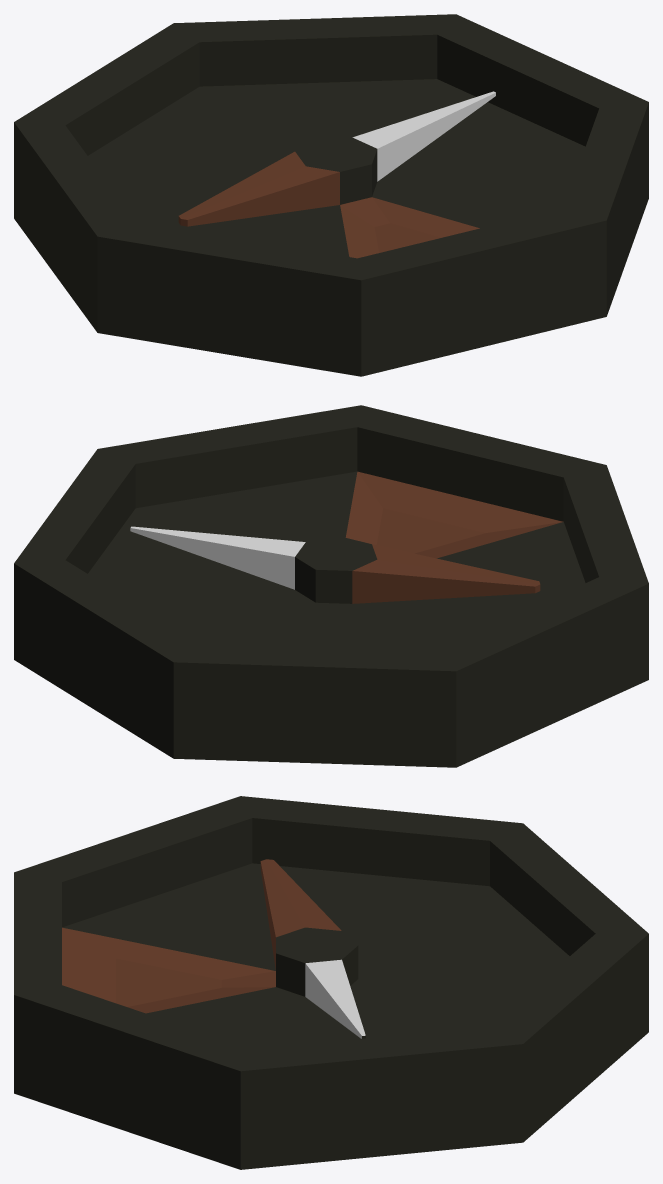
File: compass.glb
The picture shows the model from 3 angles, top to bottom: view 1: azimuth 30°, elevation 25°; view 2: azimuth 150°, elevation 25°; view 3: azimuth 270°, elevation 25°; orthographic projection. The views are drawn at different scales.
Parts seen in each view (by area): view 1: Cylinder; view 2: Cylinder; view 3: Cylinder.
Part boxes in pixels (left/top/right/bottom): Cylinder: left=14, top=14, right=648, bottom=376; Cylinder: left=14, top=405, right=648, bottom=767; Cylinder: left=14, top=796, right=648, bottom=1169.
Bounding box in the file's own units: 1.95 × 0.4365 × 1.9.
1 material, 1 textured.
